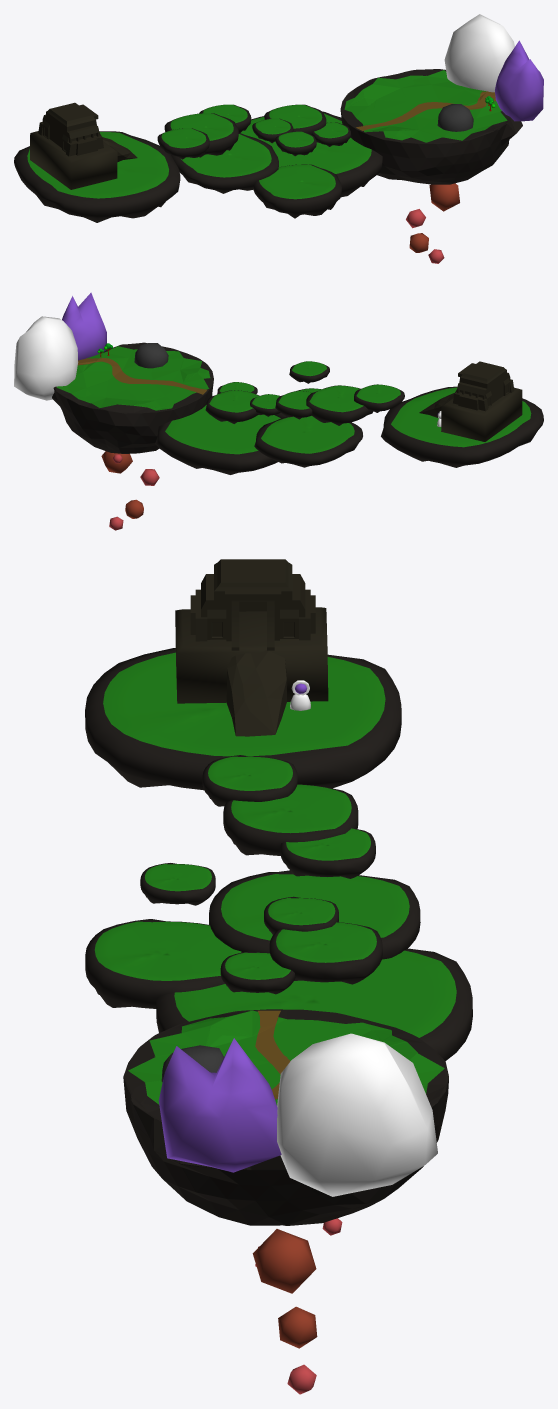
Rendered from IslandPlusTemple.obj.
The picture shows the model from 3 angles, top to bottom: view 1: azimuth 30°, elevation 25°; view 2: azimuth 150°, elevation 25°; view 3: azimuth 270°, elevation 25°; orthographic projection. The views are drawn at different scales.
Visible parts, largest first — view 1: island, FirstIsland.010, rock, FirstIsland.007, FirstIsland.009, FirstIsland.008, 立方体, TempleDoor_E.001, FirstIsland.005, FirstIsland.006, FirstIsland, ICO球 (+7 smaller); view 2: island, FirstIsland.010, rock, FirstIsland.008, FirstIsland.007, 立方体, TempleDoor_E.001, FirstIsland.005, FirstIsland, FirstIsland.006, FirstIsland.004, ICO球 (+6 smaller); view 3: rock, FirstIsland.010, island, FirstIsland.008, FirstIsland.007, FirstIsland.009, TempleDoor_E.001, 立方体, FirstIsland.005, FirstIsland, ICO球.004, FirstIsland.006 (+6 smaller).
Part boxes in pixels (x1=…): island: x1=340, y1=69, x2=522, y2=184; FirstIsland.010: x1=14, y1=131, x2=180, y2=222; rock: x1=444, y1=14, x2=543, y2=121; FirstIsland.007: x1=171, y1=133, x2=278, y2=193; FirstIsland.009: x1=253, y1=164, x2=341, y2=218; FirstIsland.008: x1=241, y1=111, x2=382, y2=197; 立方体: x1=30, y1=131, x2=117, y2=189; TempleDoor_E.001: x1=38, y1=102, x2=103, y2=156; FirstIsland.005: x1=164, y1=113, x2=238, y2=157; FirstIsland.006: x1=157, y1=128, x2=209, y2=159; FirstIsland: x1=264, y1=104, x2=326, y2=134; ICO球: x1=437, y1=104, x2=473, y2=131; island: x1=52, y1=342, x2=213, y2=453; FirstIsland.010: x1=381, y1=386, x2=543, y2=467; rock: x1=14, y1=292, x2=106, y2=400; FirstIsland.008: x1=155, y1=405, x2=280, y2=474; FirstIsland.007: x1=254, y1=415, x2=362, y2=467; 立方体: x1=441, y1=387, x2=522, y2=441; TempleDoor_E.001: x1=453, y1=361, x2=514, y2=411; FirstIsland.005: x1=306, y1=385, x2=373, y2=425; FirstIsland: x1=205, y1=390, x2=259, y2=423; FirstIsland.006: x1=354, y1=384, x2=404, y2=412; FirstIsland.004: x1=275, y1=390, x2=312, y2=419; ICO球: x1=134, y1=343, x2=168, y2=368; rock: x1=158, y1=1033, x2=437, y2=1196; FirstIsland.010: x1=85, y1=648, x2=401, y2=790; island: x1=123, y1=1009, x2=448, y2=1225; FirstIsland.008: x1=156, y1=948, x2=472, y2=1060; FirstIsland.007: x1=209, y1=870, x2=420, y2=959; FirstIsland.009: x1=85, y1=919, x2=242, y2=1008; TempleDoor_E.001: x1=190, y1=559, x2=315, y2=650; 立方体: x1=175, y1=607, x2=328, y2=703; FirstIsland.005: x1=223, y1=784, x2=358, y2=855; FirstIsland: x1=269, y1=922, x2=382, y2=984; ICO球.004: x1=226, y1=650, x2=287, y2=736; FirstIsland.006: x1=202, y1=755, x2=297, y2=806.
Bounding box in the file's own units: 986 × 471 × 348.
